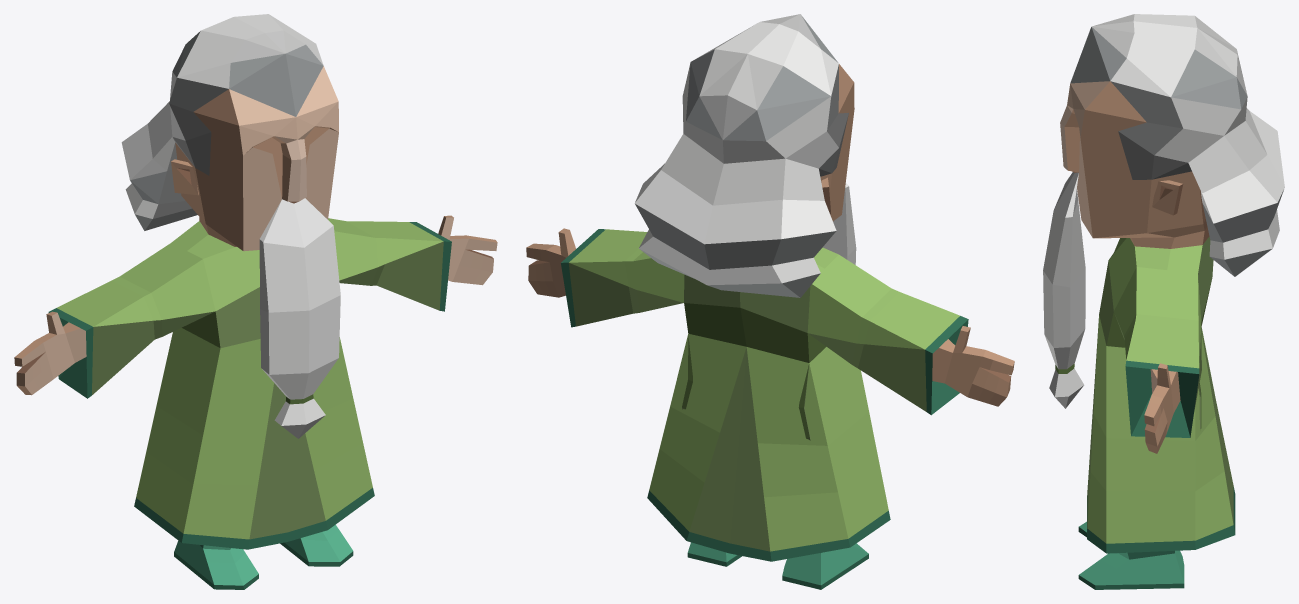
The model's file is infj.glb.
The picture shows the model from 3 angles, left to right: view 1: azimuth 30°, elevation 25°; view 2: azimuth 150°, elevation 25°; view 3: azimuth 270°, elevation 25°; orthographic projection.
Parts seen in each view (by area): view 1: infj; view 2: infj; view 3: infj.
Part boxes in pixels (x1,y1,x2,y2): infj: (14,14,497,589); infj: (526,14,1014,589); infj: (1043,14,1284,589).
Size of the model in its own units: 9.98 by 10.41 by 4.27.
2 materials, 2 textured.
